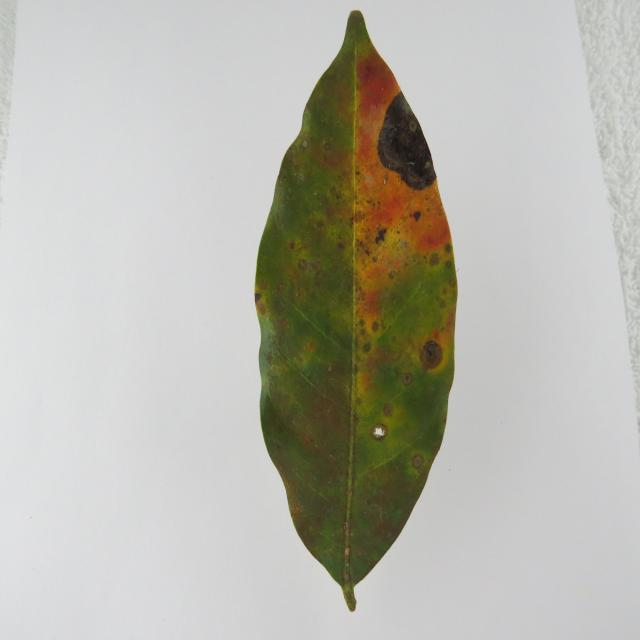DeficienciaNutricional-Fosforo: (255, 12, 458, 612)
